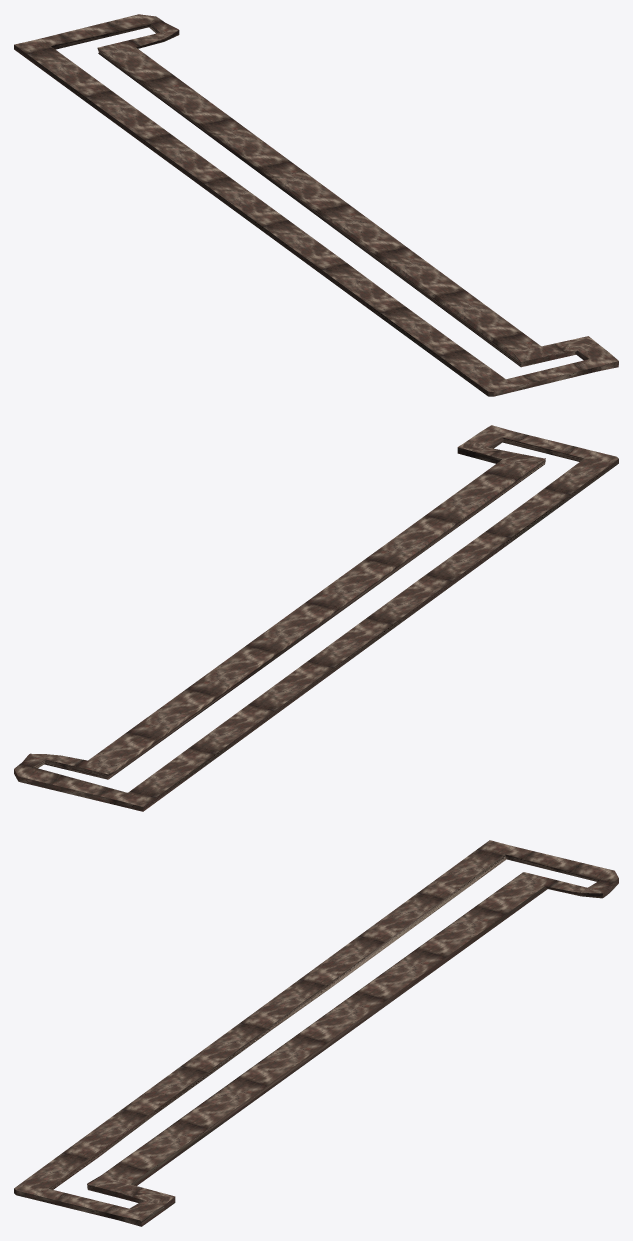
File: RoadSide.fbx
The picture shows the model from 3 angles, top to bottom: view 1: azimuth 30°, elevation 25°; view 2: azimuth 150°, elevation 25°; view 3: azimuth 330°, elevation 25°; orthographic projection.
Parts seen in each view (by area): view 1: Sidewalk, Sidewalk.001; view 2: Sidewalk, Sidewalk.001; view 3: Sidewalk, Sidewalk.001.
Part boxes in pixels (bbox=[...]): Sidewalk: bbox=[14, 14, 618, 396]; Sidewalk.001: bbox=[98, 48, 521, 363]; Sidewalk: bbox=[14, 425, 618, 811]; Sidewalk.001: bbox=[109, 458, 545, 773]; Sidewalk: bbox=[14, 840, 618, 1226]; Sidewalk.001: bbox=[87, 872, 523, 1185].
Bounding box in the file's own units: 1245 × 78.52 × 7386.
Materials: 1 (1 with a texture image).
